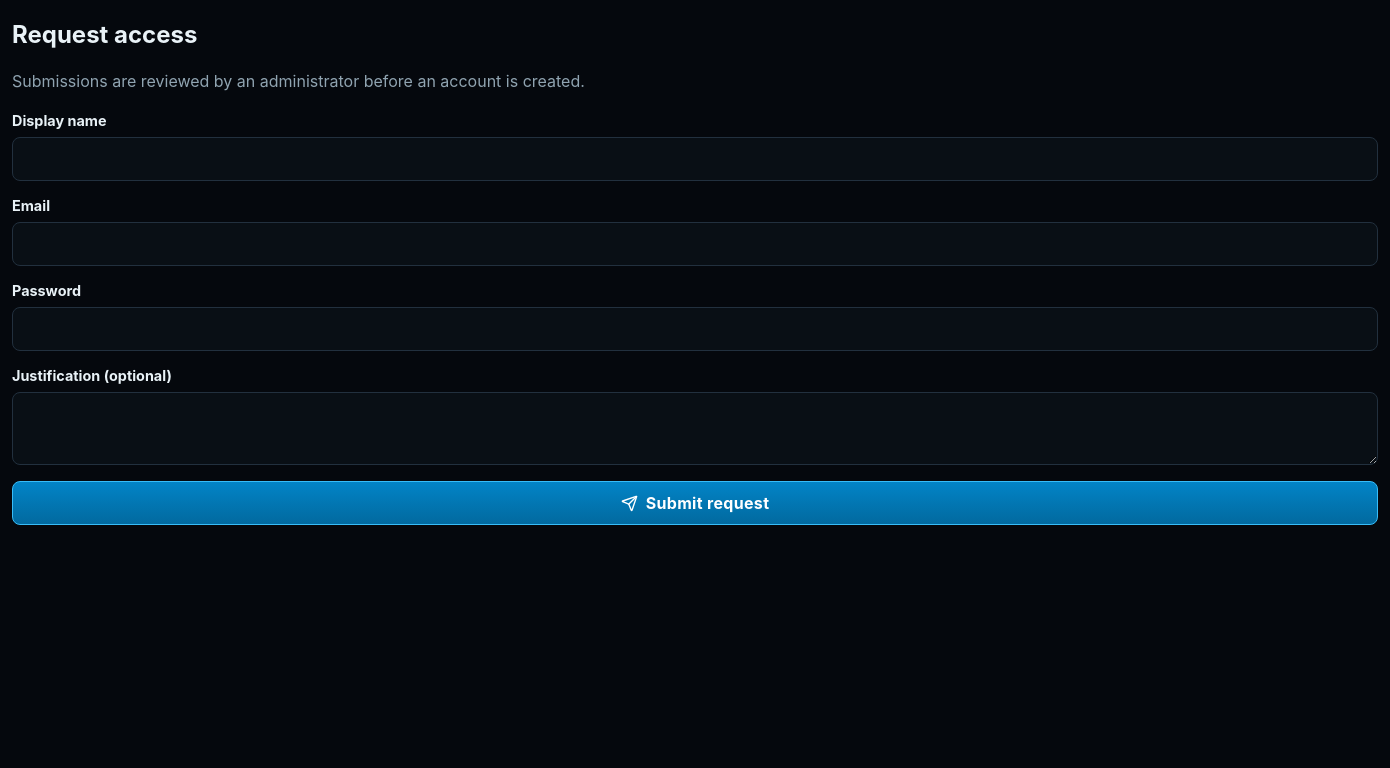
Scenario: explains registration throttling without leaking detail
The width and height of the screenshot is (1390, 768).
Type "New Operator" into the field labelled "Display name" at (695, 159), box top-left (12, 137), bottom-right (1378, 181)
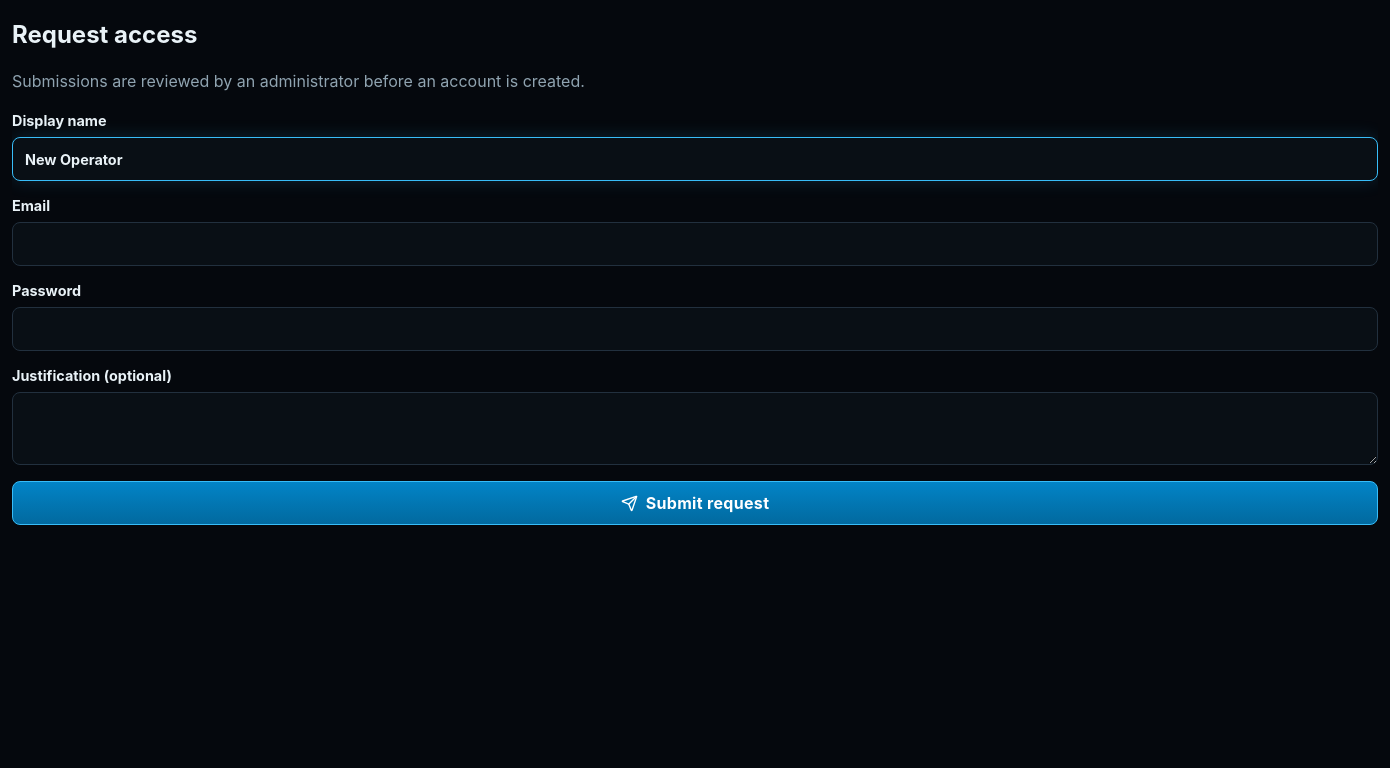
Type "new.operator@example.test" into the field labelled "Email" at (695, 244), box top-left (12, 222), bottom-right (1378, 266)
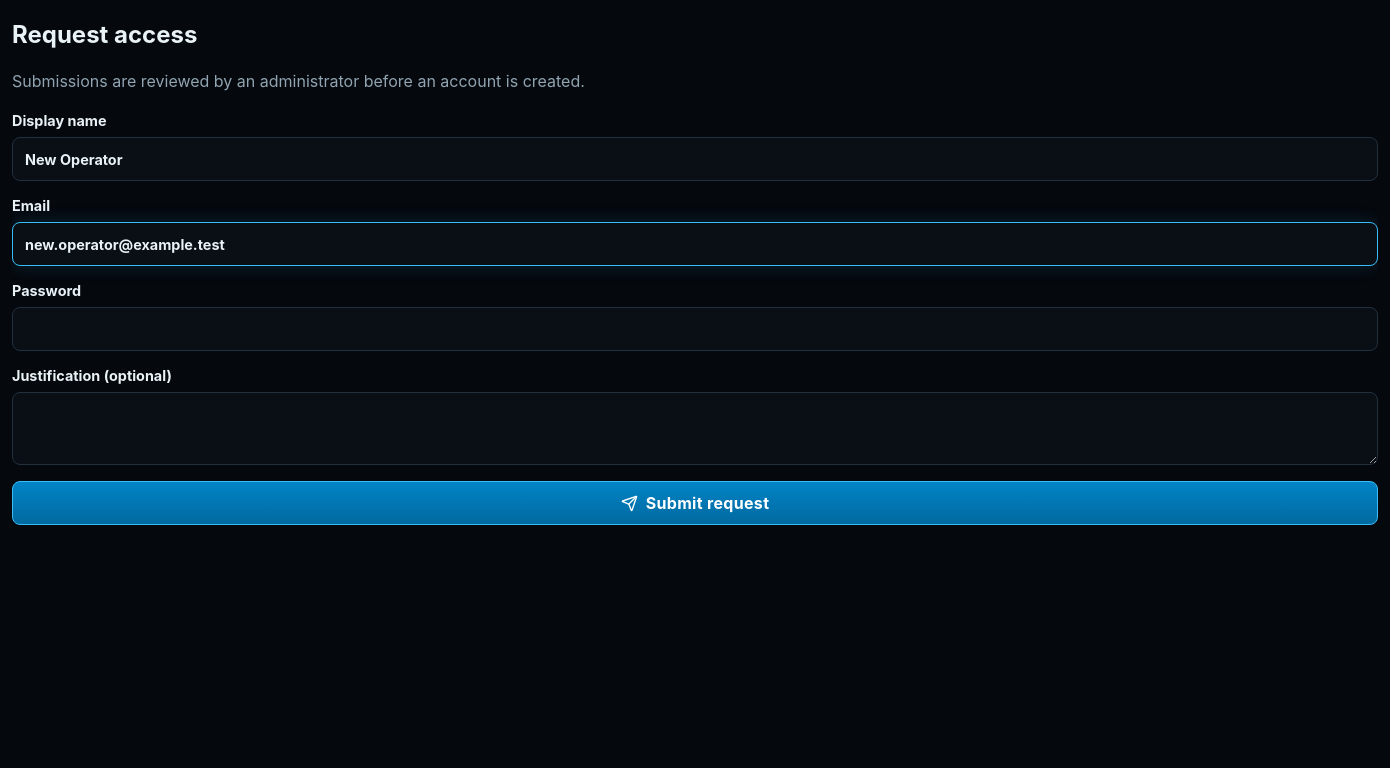
Type "NewOperator1!x" into the password field labelled "Password" at (695, 329), box top-left (12, 307), bottom-right (1378, 351)
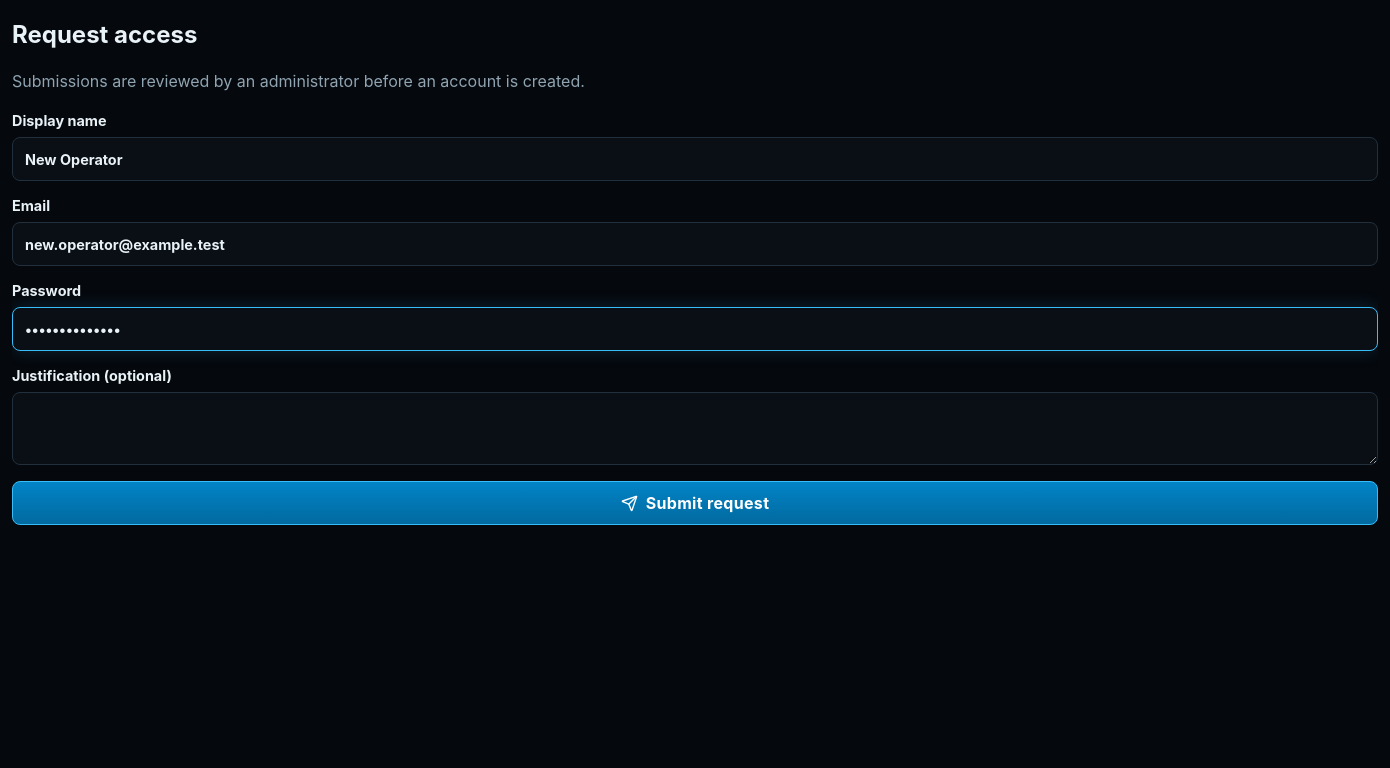
Type "Mock regional reporting duties." into the text box labelled "Justification (optional)" at (695, 429), box top-left (12, 392), bottom-right (1378, 465)
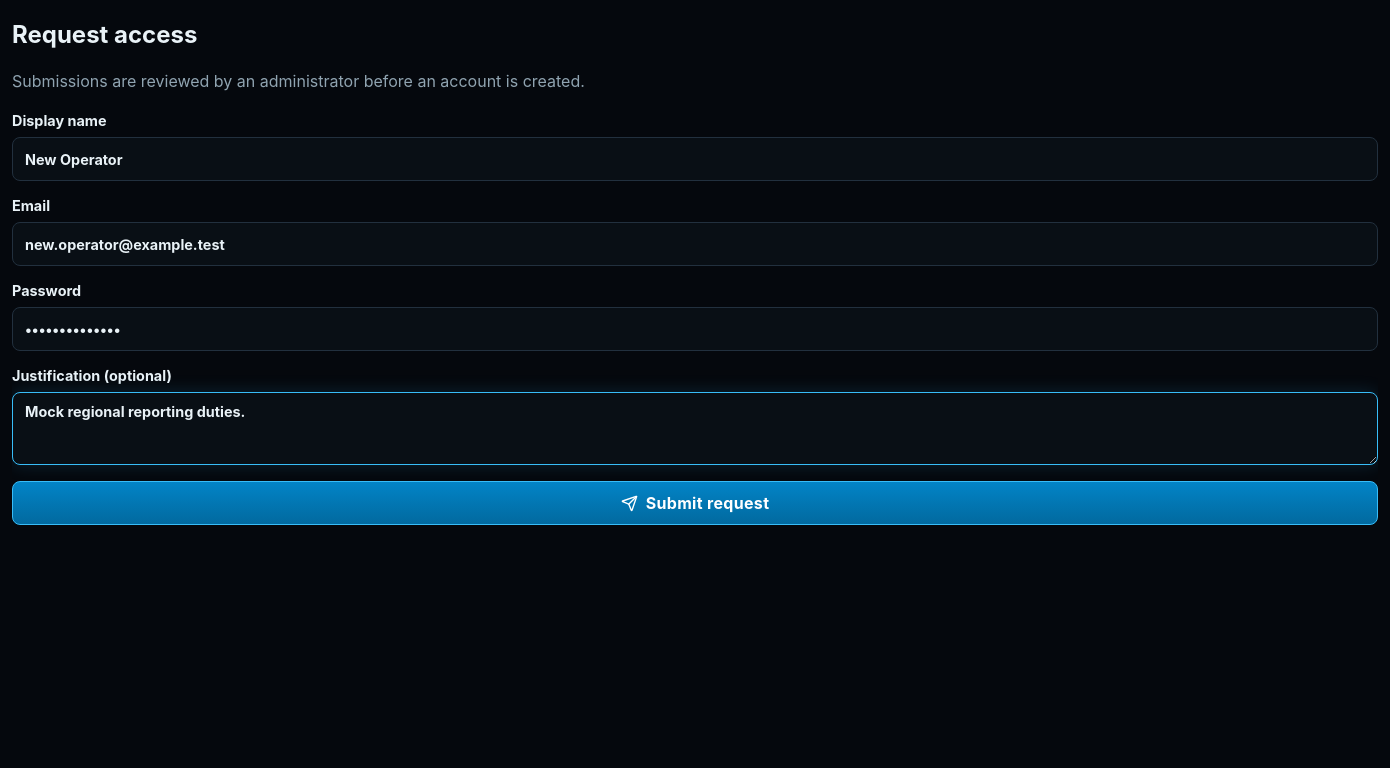
Click the button "Submit request" at (695, 503), box top-left (12, 481), bottom-right (1378, 525)
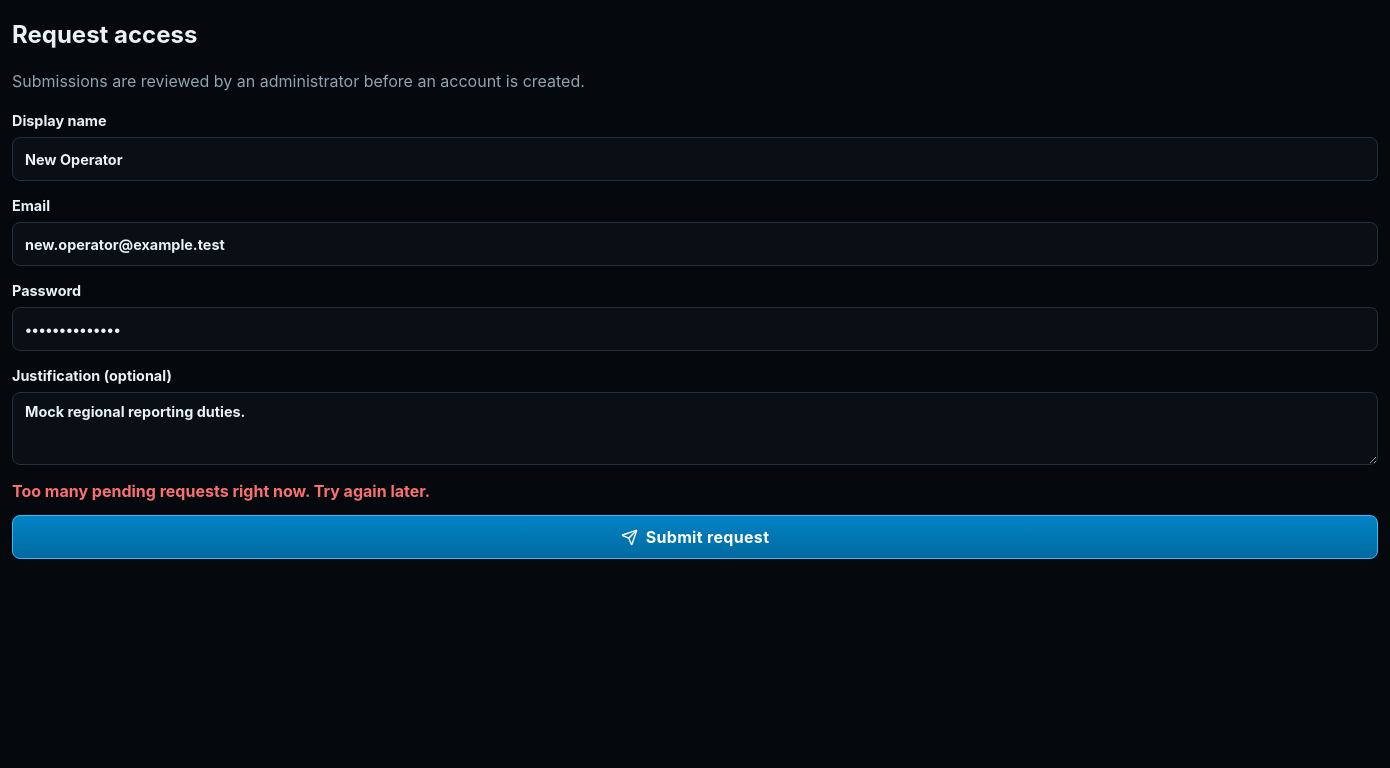
Check: the text "Too many pending requests right now. Try again later." is shown, box top-left (12, 481), bottom-right (430, 501)
